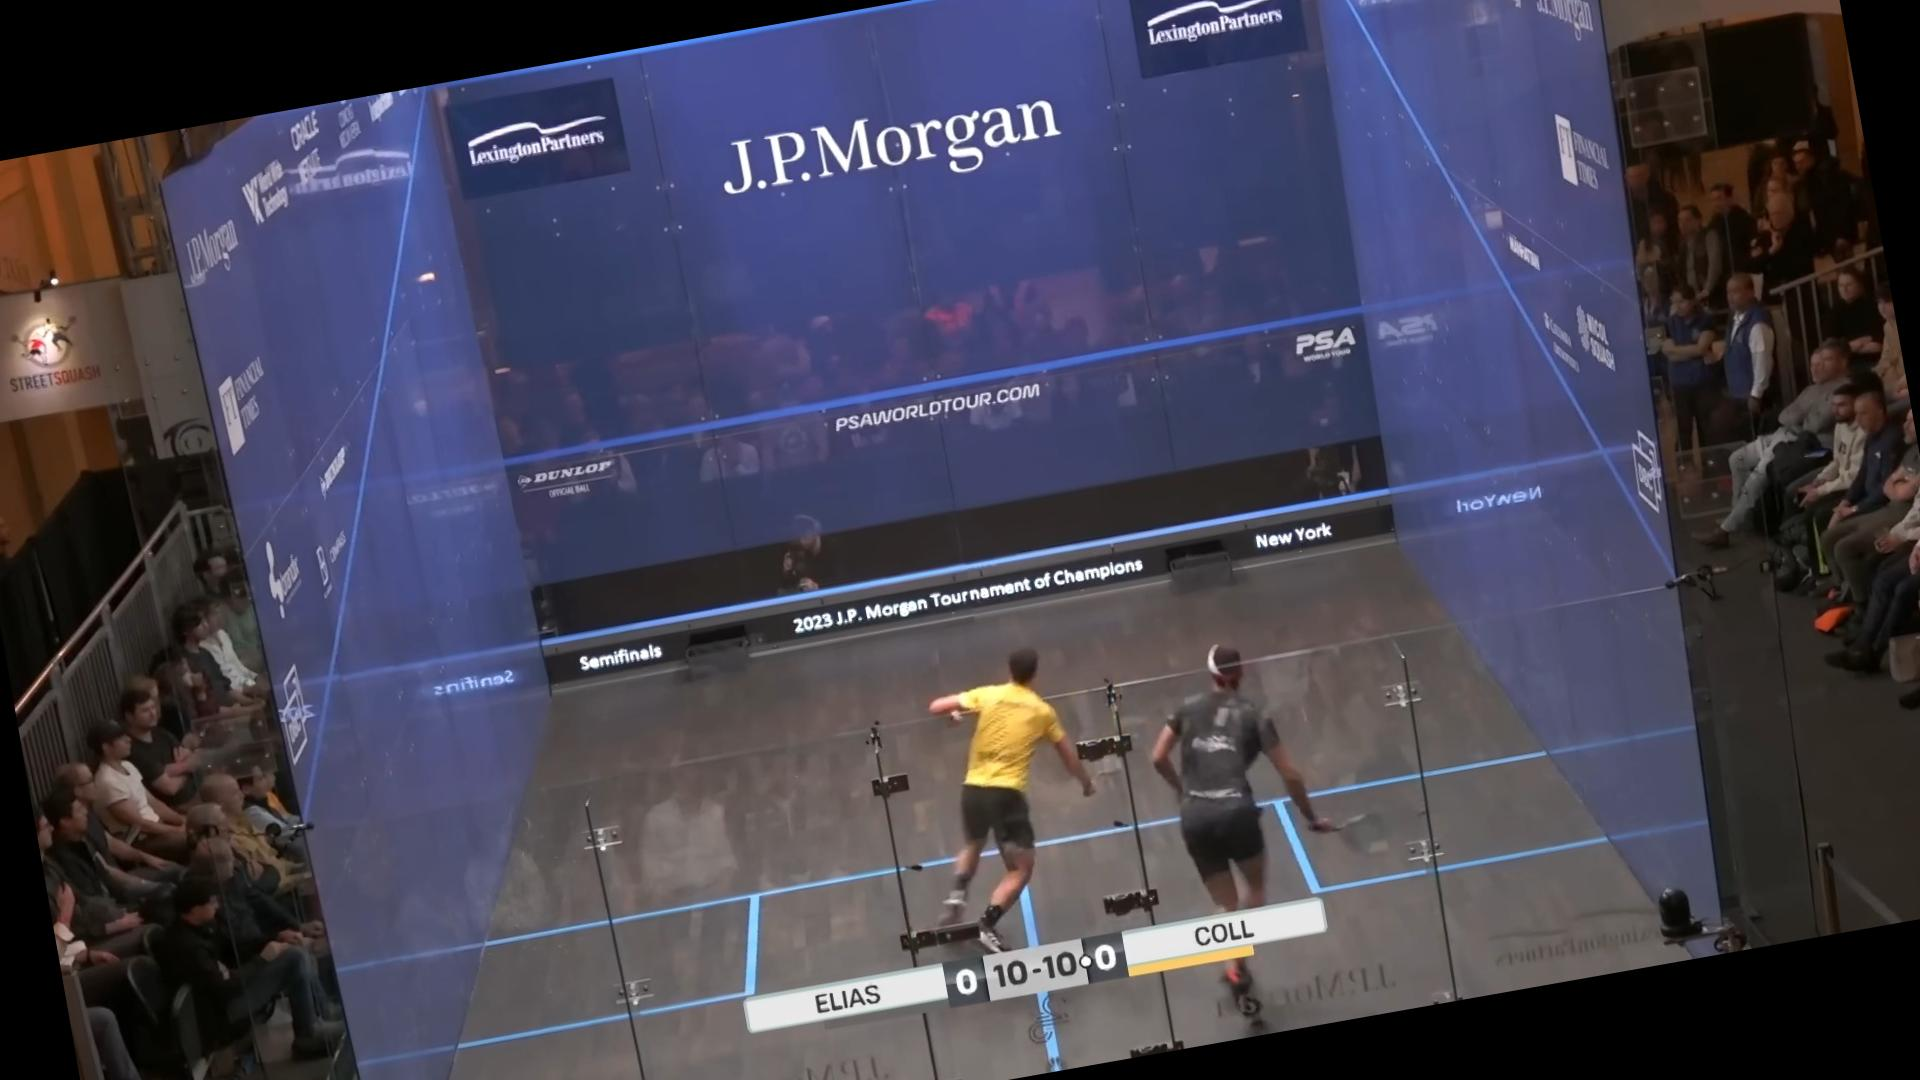Racket: (1311, 795, 1407, 880)
